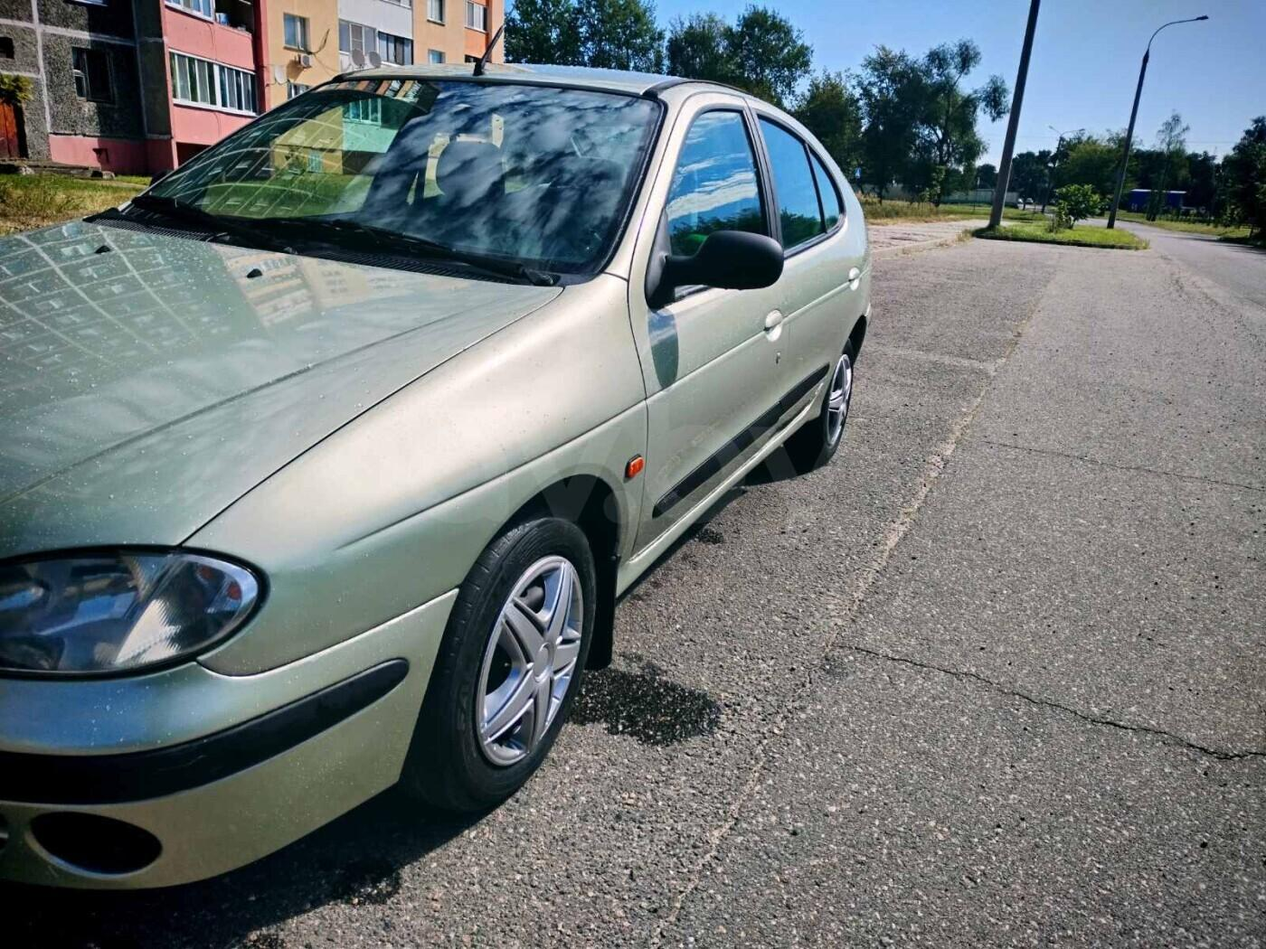Megane_1999-2003: (0, 54, 877, 912)
